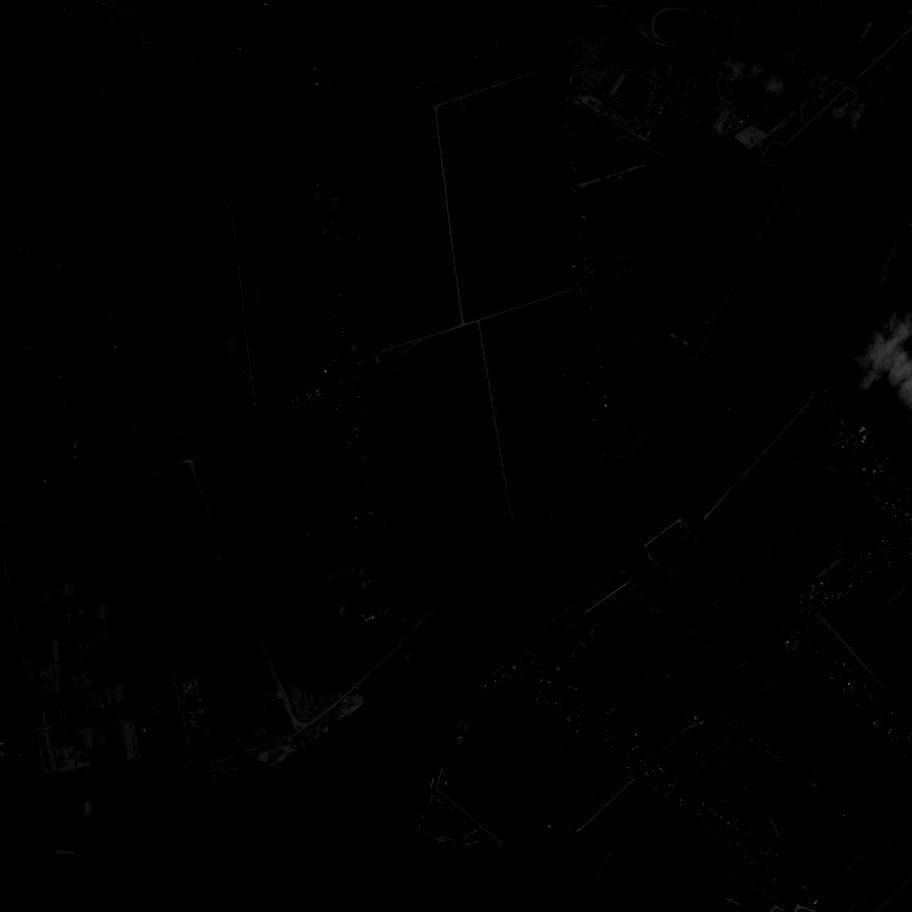ship: (431, 668, 455, 693), (142, 808, 170, 821), (292, 793, 319, 803), (381, 736, 399, 750), (217, 852, 241, 862), (55, 849, 76, 856), (57, 833, 74, 841), (85, 803, 93, 816), (299, 790, 312, 795), (309, 39, 310, 39)
